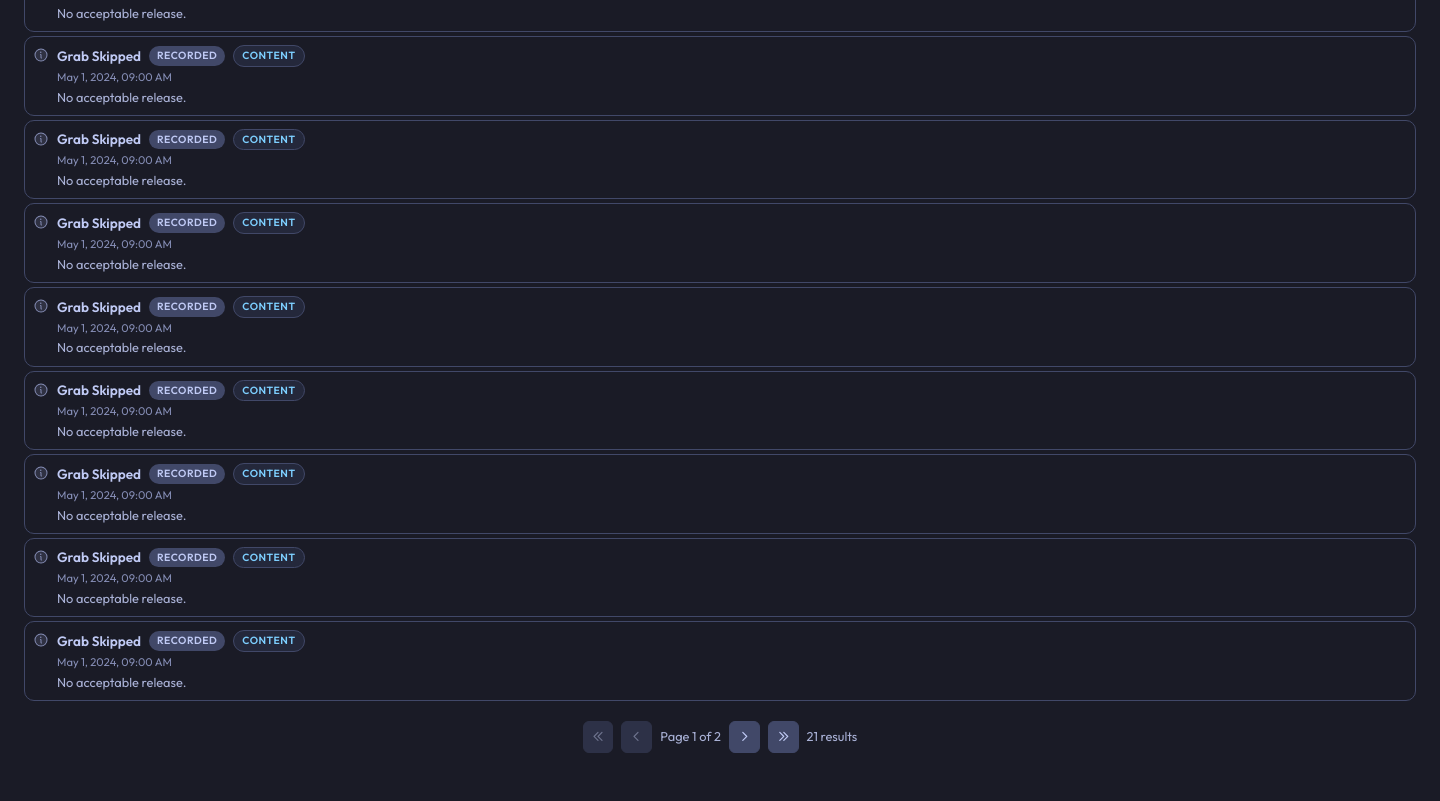
it: RelatedEventsChain › Pagination_ShowsExactRelatedCount_WhenRelatedEntriesSpanPages
(page scrolled)
expect the text "Page 1 of 2" is shown: met, box [660,727,721,746]
expect the text "21 results" is shown: met, box [806,727,857,746]
Click the button named "Go to next page" at (744,737), box [729,721,760,753]
(page scrolled)
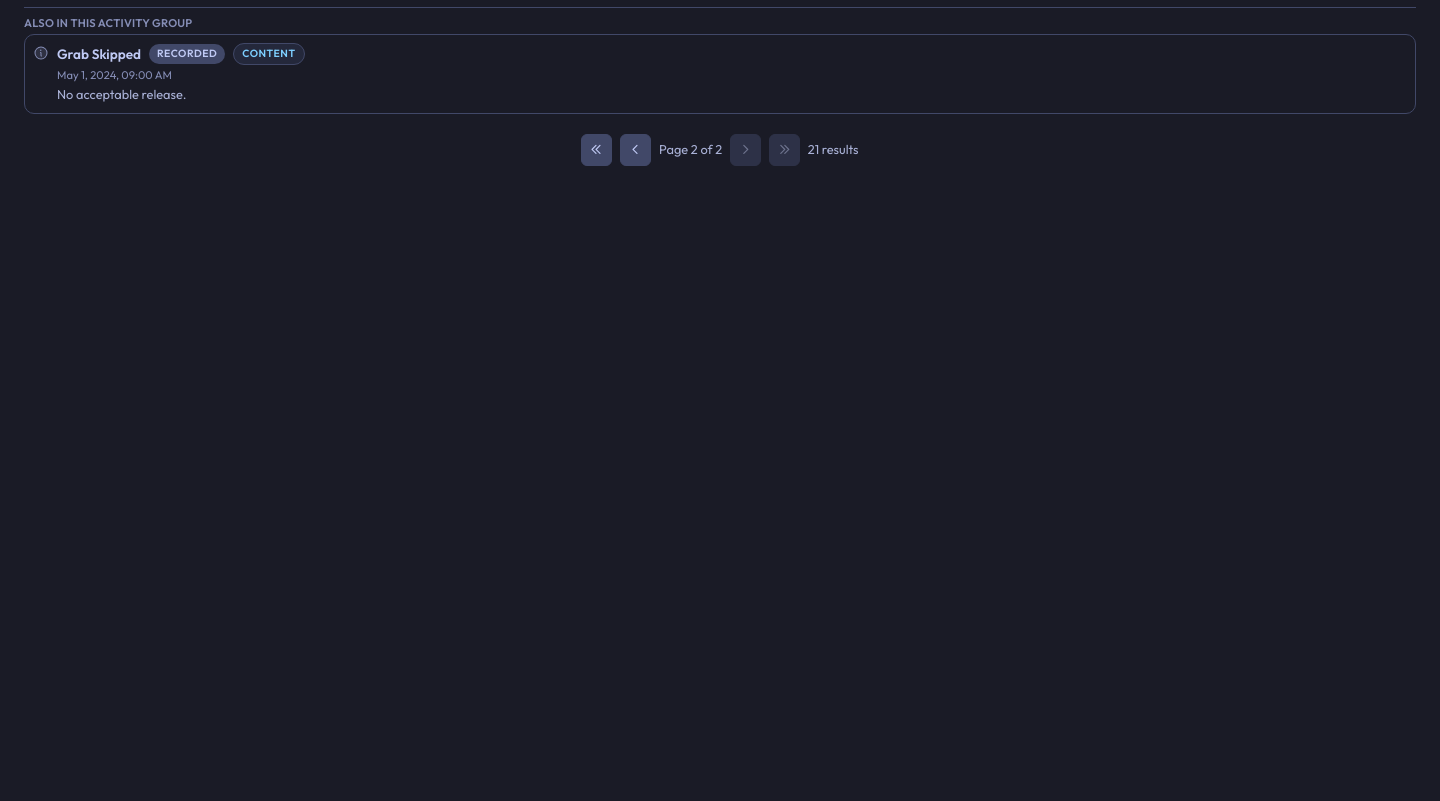
expect the text "21 results" is shown: met, box [808,140,859,159]
expect the text "Page 2 of 2" is shown: met, box [659,140,722,159]
